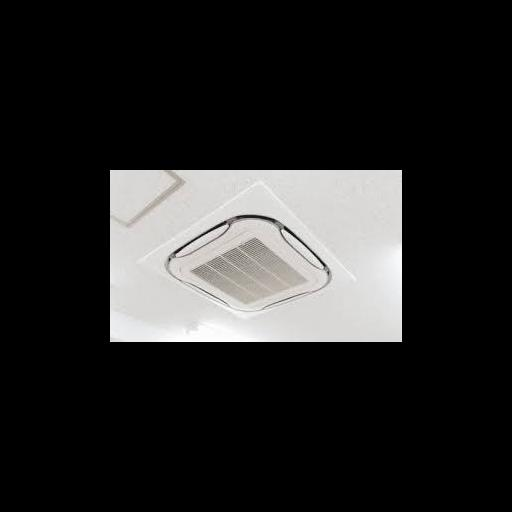4-way-ac: (136, 182, 356, 321)
